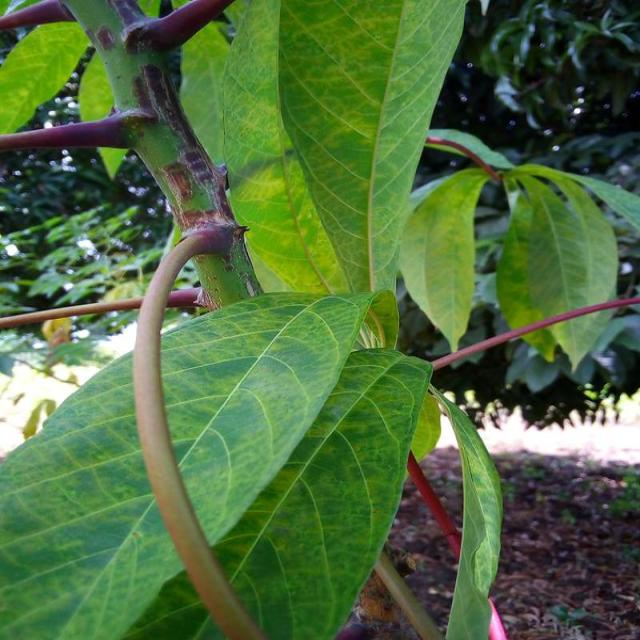cassava leaf: (0, 288, 433, 638), (495, 164, 619, 374)
